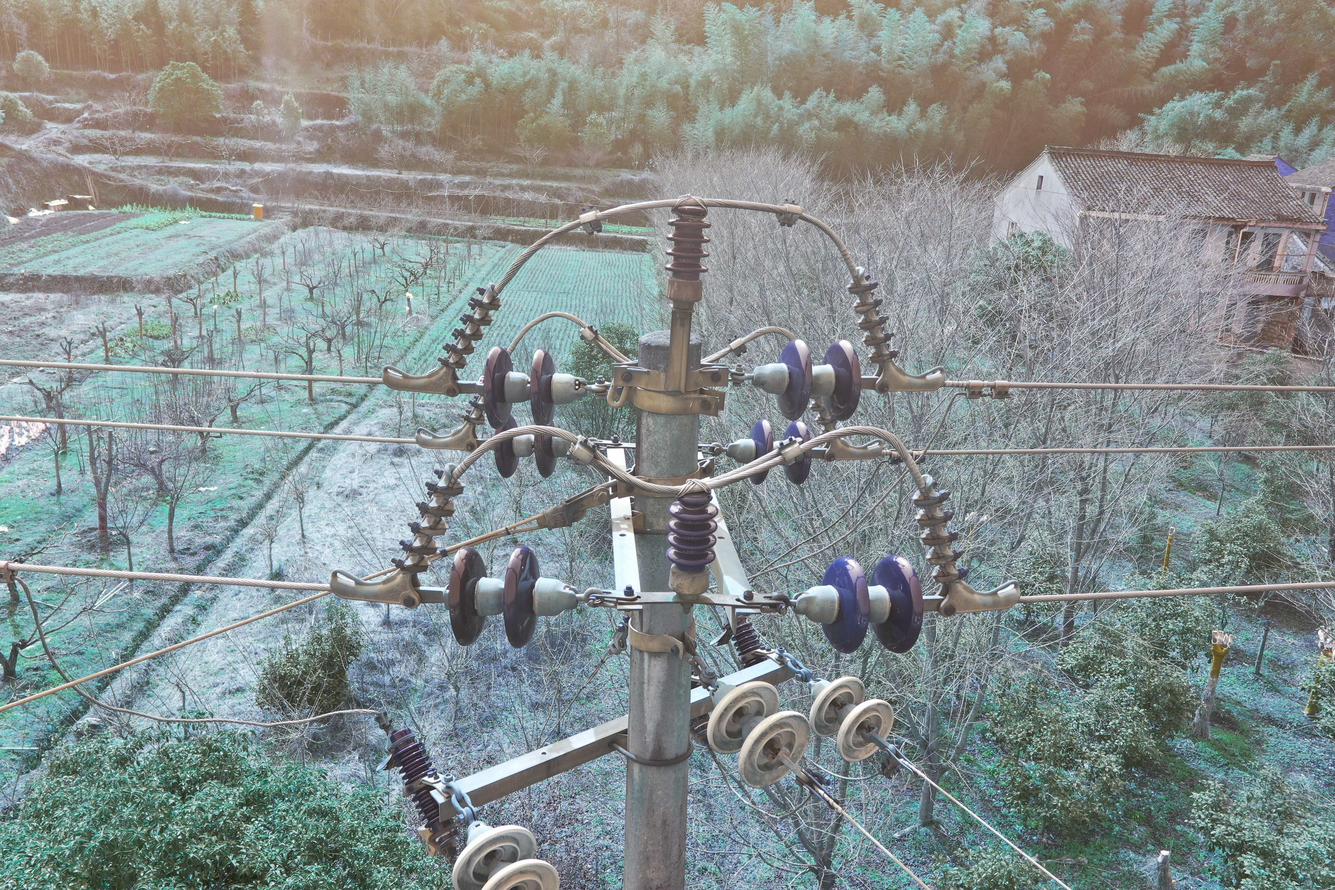severe_soiling_no_discharge_whole: (703, 671, 814, 791), (802, 670, 899, 766), (450, 817, 562, 889)
